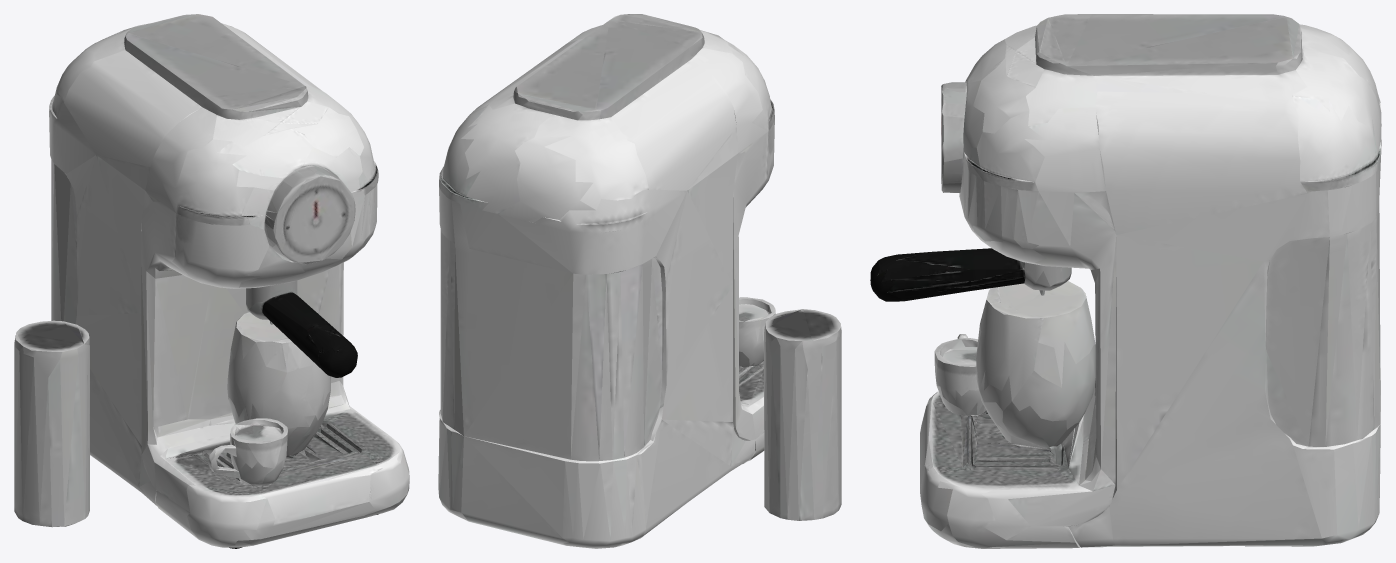
File: coffeemachine.glb
3 renders of one model, left to right at view 1: azimuth 30°, elevation 25°; view 2: azimuth 150°, elevation 25°; view 3: azimuth 270°, elevation 25°, orthographic. The views are drawn at different scales.
Bounding box in the file's own units: 1.55 × 1.9 × 1.89.
Materials: 1 (1 with a texture image).
